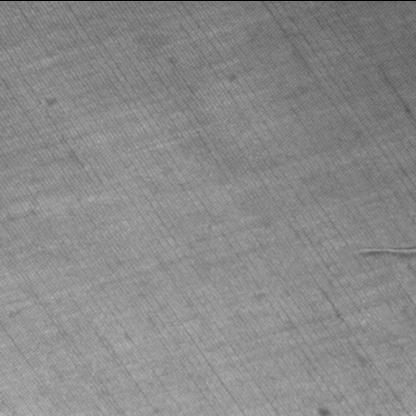objects: (349, 242, 415, 260)
